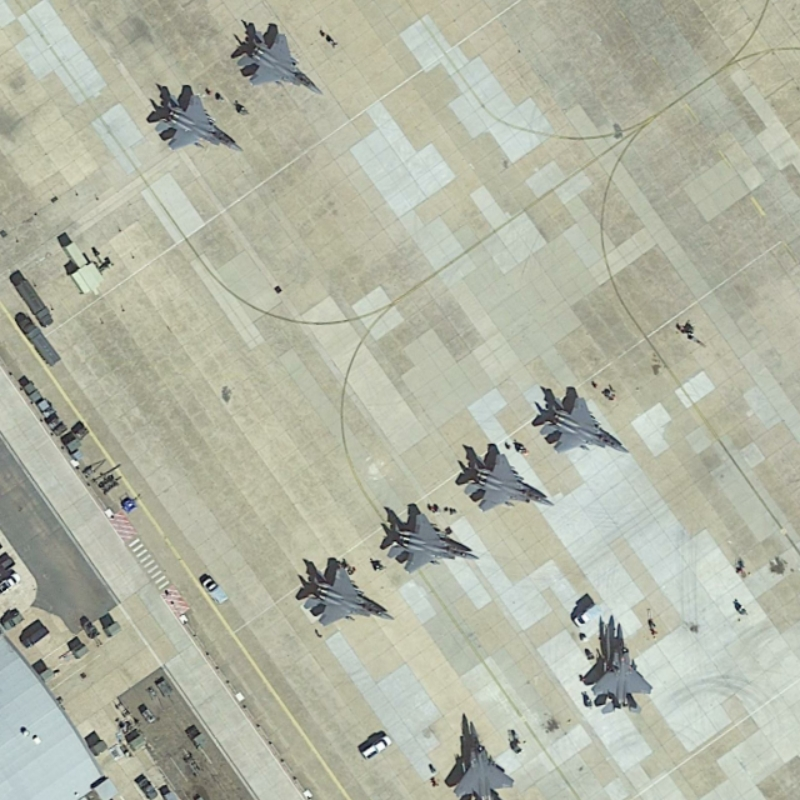A13: (231, 12, 323, 100), (528, 383, 630, 461), (146, 84, 245, 163), (584, 619, 655, 716), (379, 510, 483, 575), (297, 560, 397, 627), (461, 451, 557, 517), (447, 718, 516, 800)
